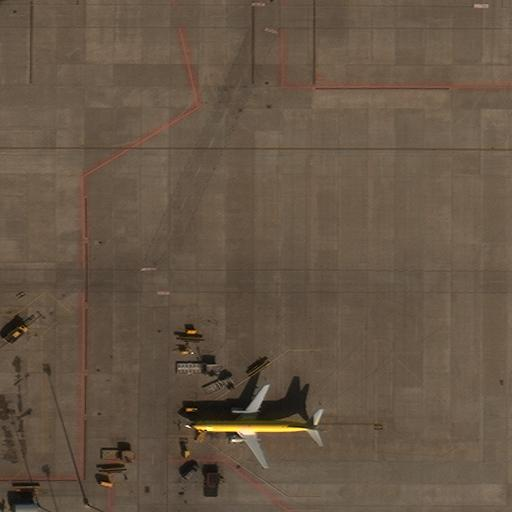Medium Civil Transport: (185, 386, 318, 467)
